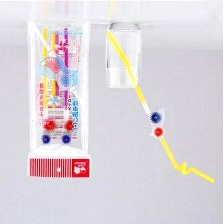drinking_straw: (101, 27, 218, 187)
glass: (102, 18, 145, 93)
